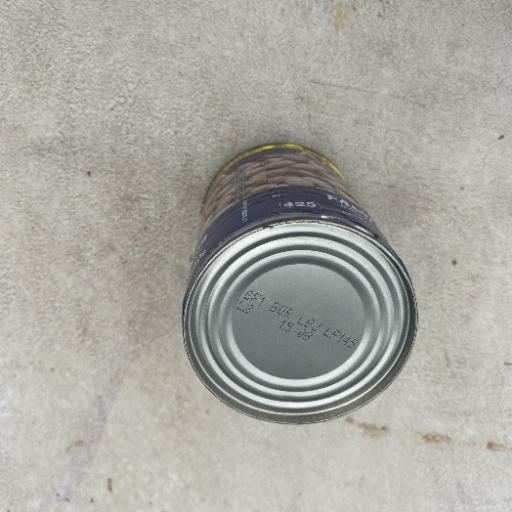Metal: (179, 140, 420, 426)
